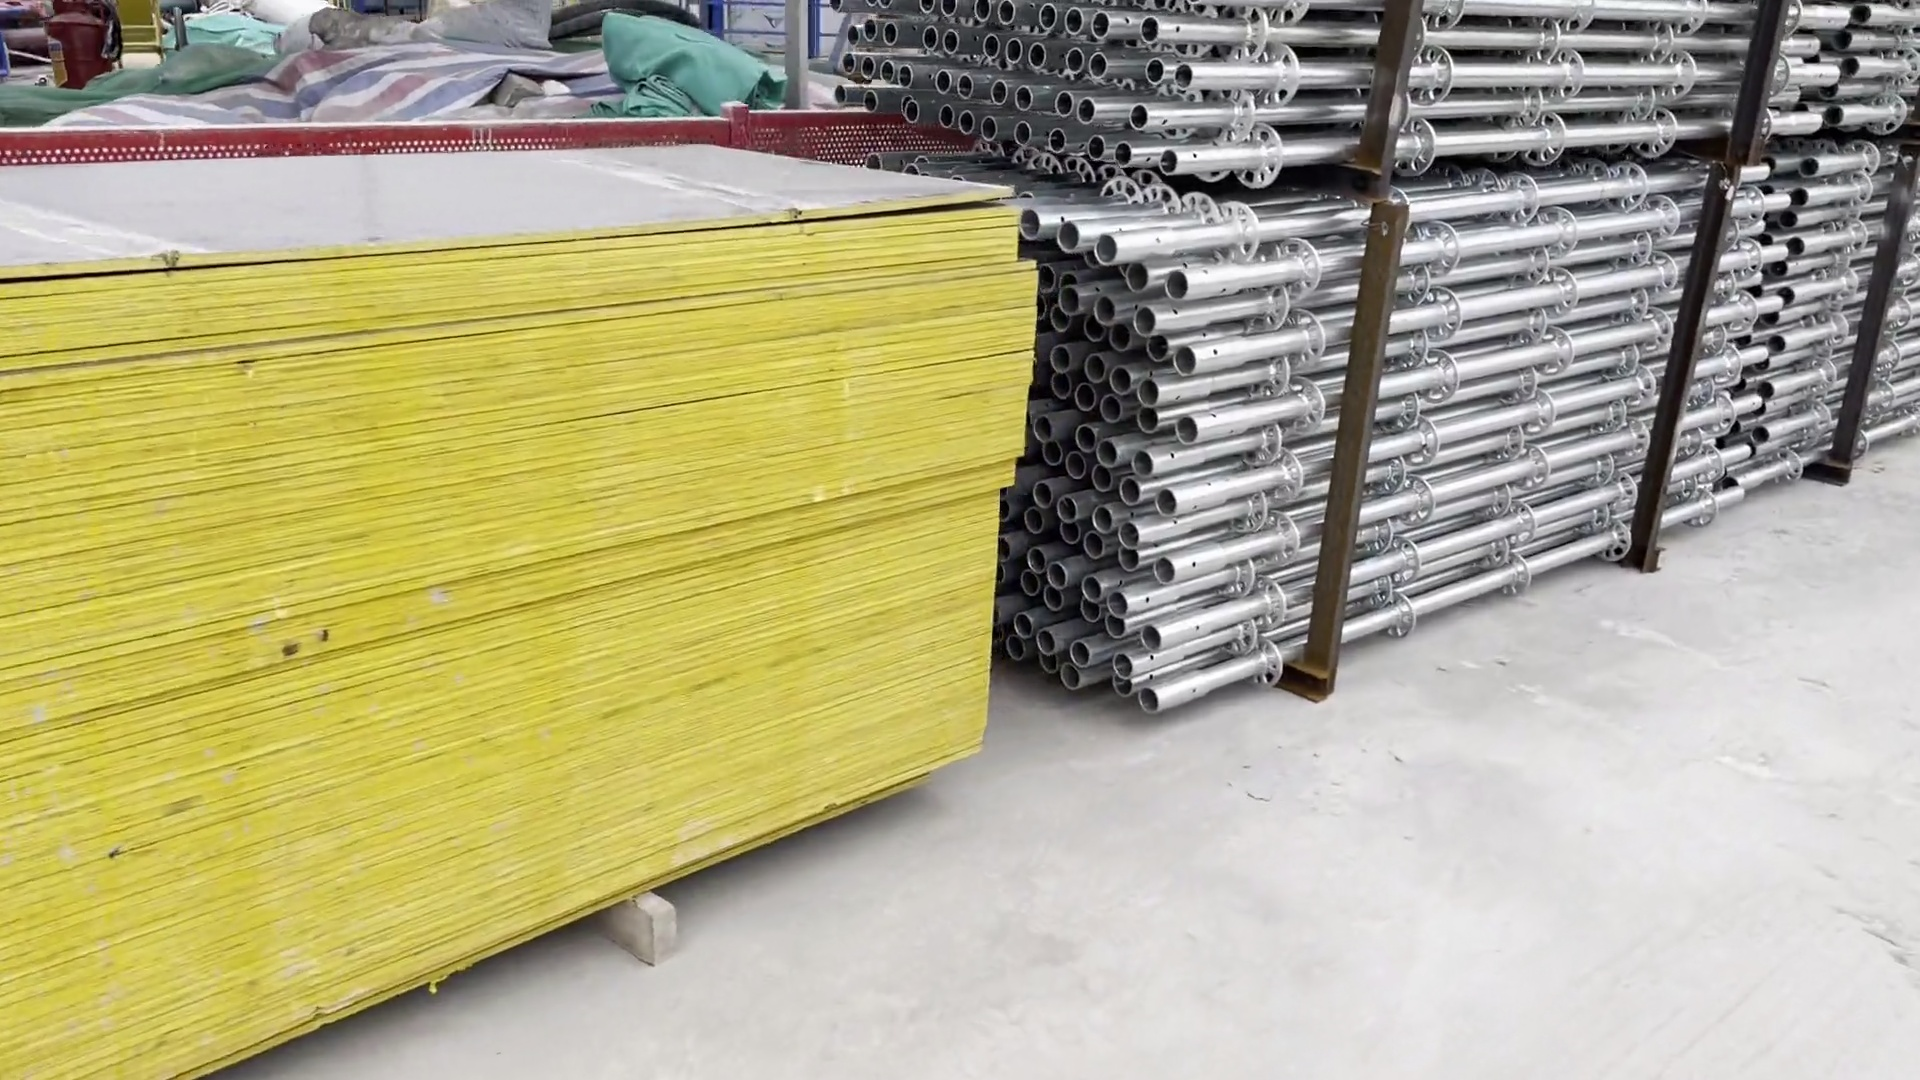board: (1, 120, 1097, 1064)
scaffold: (815, 1, 1646, 735), (1660, 1, 1920, 509)
